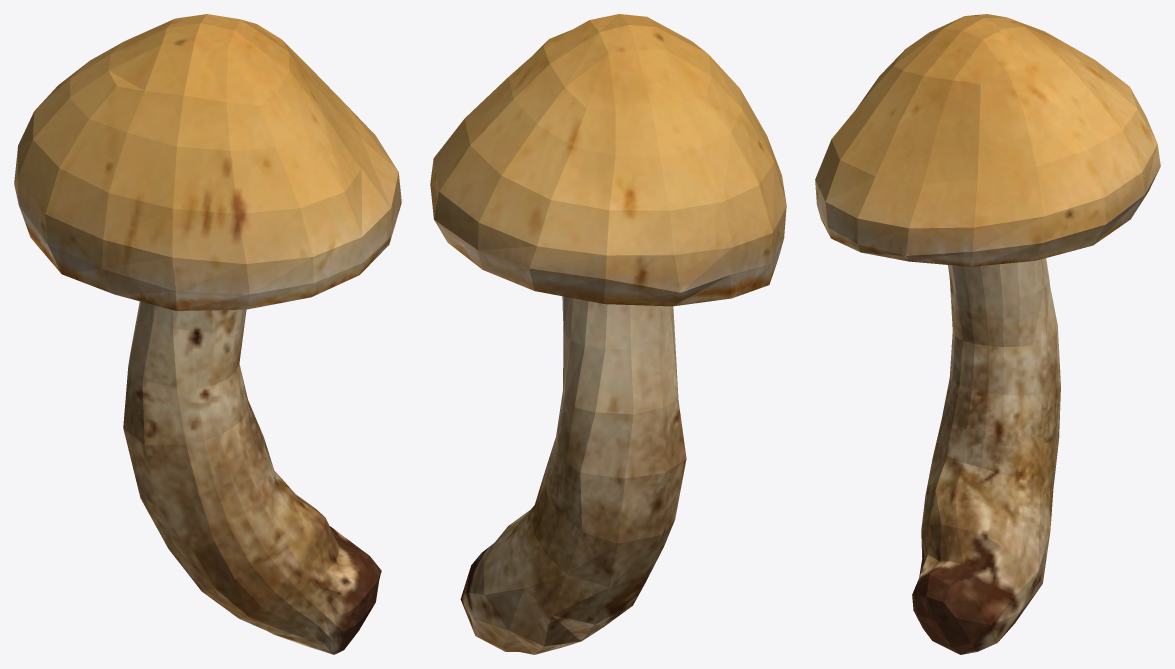
The model's file is P_Songrong_01.obj.
3 views of the same model, side by side, from view 1: azimuth 30°, elevation 25°; view 2: azimuth 150°, elevation 25°; view 3: azimuth 270°, elevation 25° (orthographic). The views are drawn at different scales.
Bounding box in the file's own units: 0.2469 × 0.4759 × 0.2565.
1 material, 1 textured.
